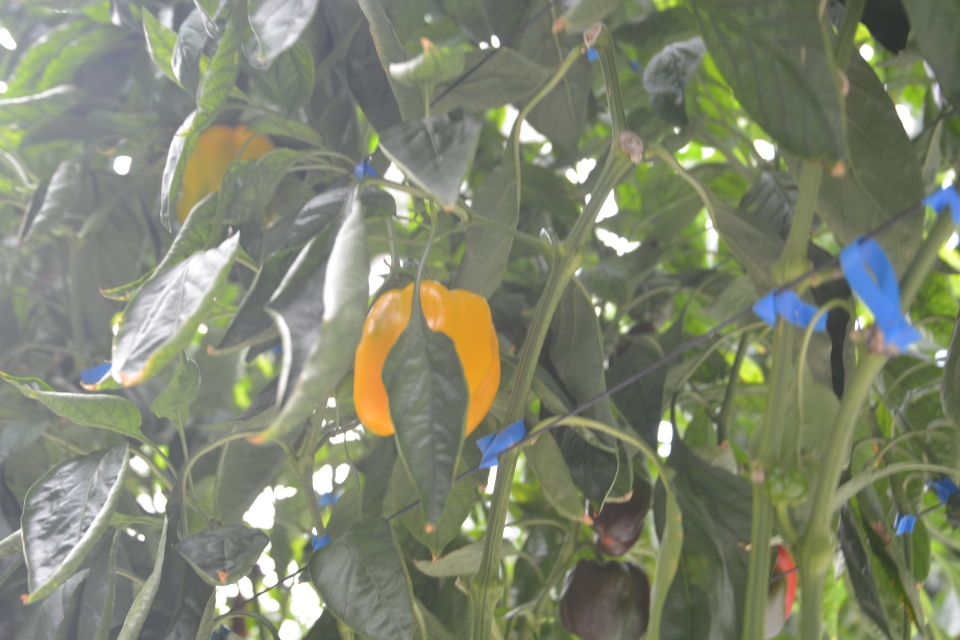fruit: (352, 278, 503, 440), (174, 123, 272, 225), (556, 556, 652, 640), (587, 468, 654, 557)
